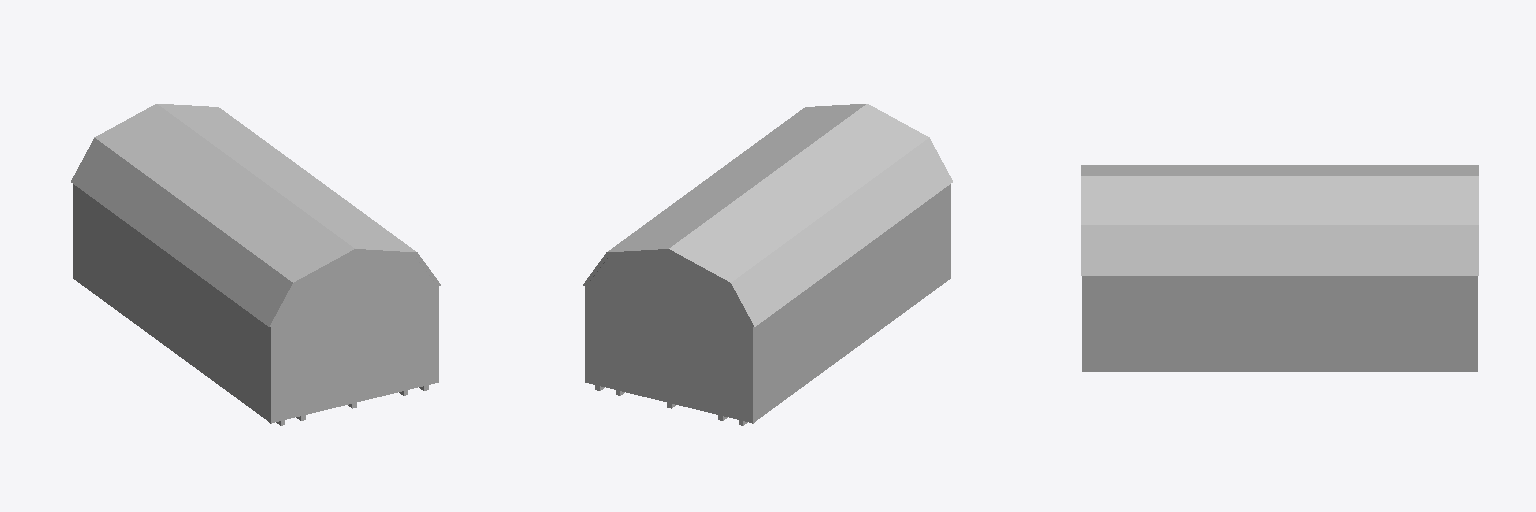
Rendered from Dutch Barn_12x24.obj.
The picture shows the model from 3 angles: view 1: azimuth 30°, elevation 25°; view 2: azimuth 150°, elevation 25°; view 3: azimuth 270°, elevation 25°; orthographic projection.
Parts seen in each view (by area): view 1: Dutch Barn_12x24.obj; view 2: Dutch Barn_12x24.obj; view 3: Dutch Barn_12x24.obj.
Part boxes in pixels (bbox=[...]): Dutch Barn_12x24.obj: bbox=[71, 104, 440, 425]; Dutch Barn_12x24.obj: bbox=[583, 104, 952, 425]; Dutch Barn_12x24.obj: bbox=[1081, 165, 1478, 371].
Bounding box in the file's own units: 3.69 × 3.27 × 7.37.